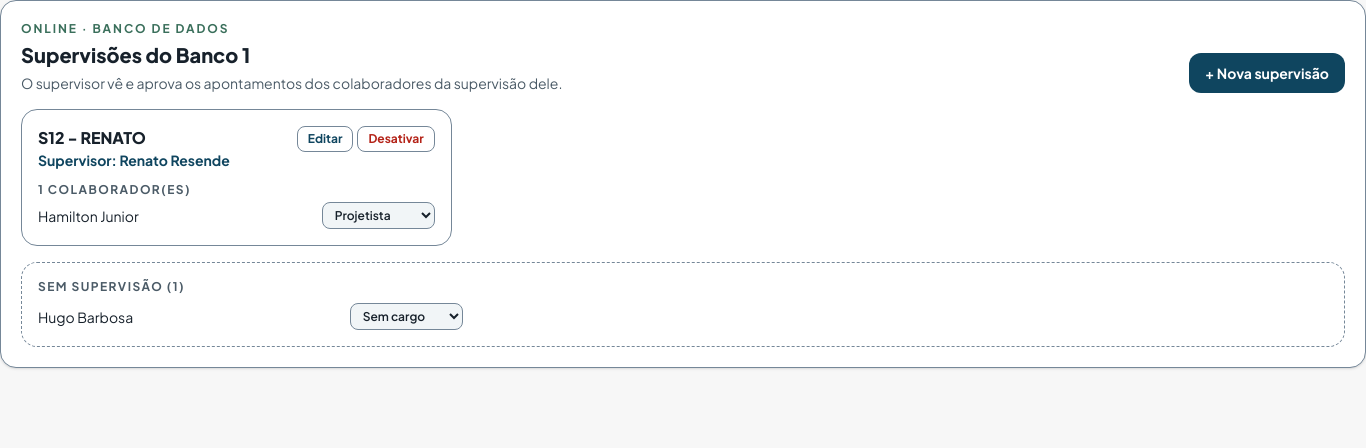
Test: OnlineTeamsPanel › a diretoria define o cargo de quem está na supervisão e de quem está sem supervisão
The image size is (1366, 448).
Expected: the dropdown named "Cargo de Hugo Barbosa" is shown, [350,303,463,330]
Select "Projetista" in the dropdown named "Cargo de Hamilton Junior". click: (378, 216)
box: [322,202,435,229]
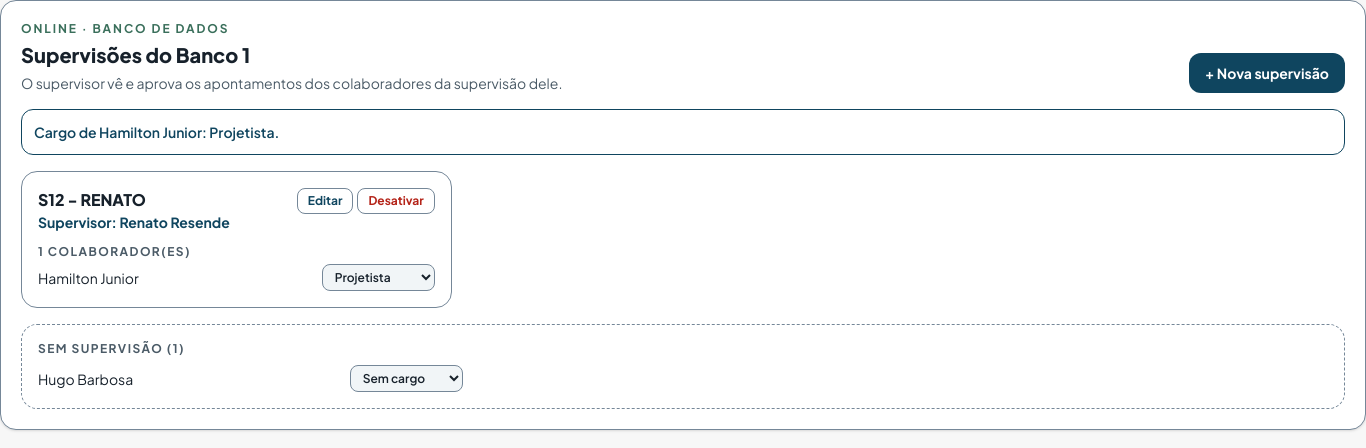
Expected: the text "Cargo de Hamilton Junior: Projetista." is shown, [21,109,1345,155]
